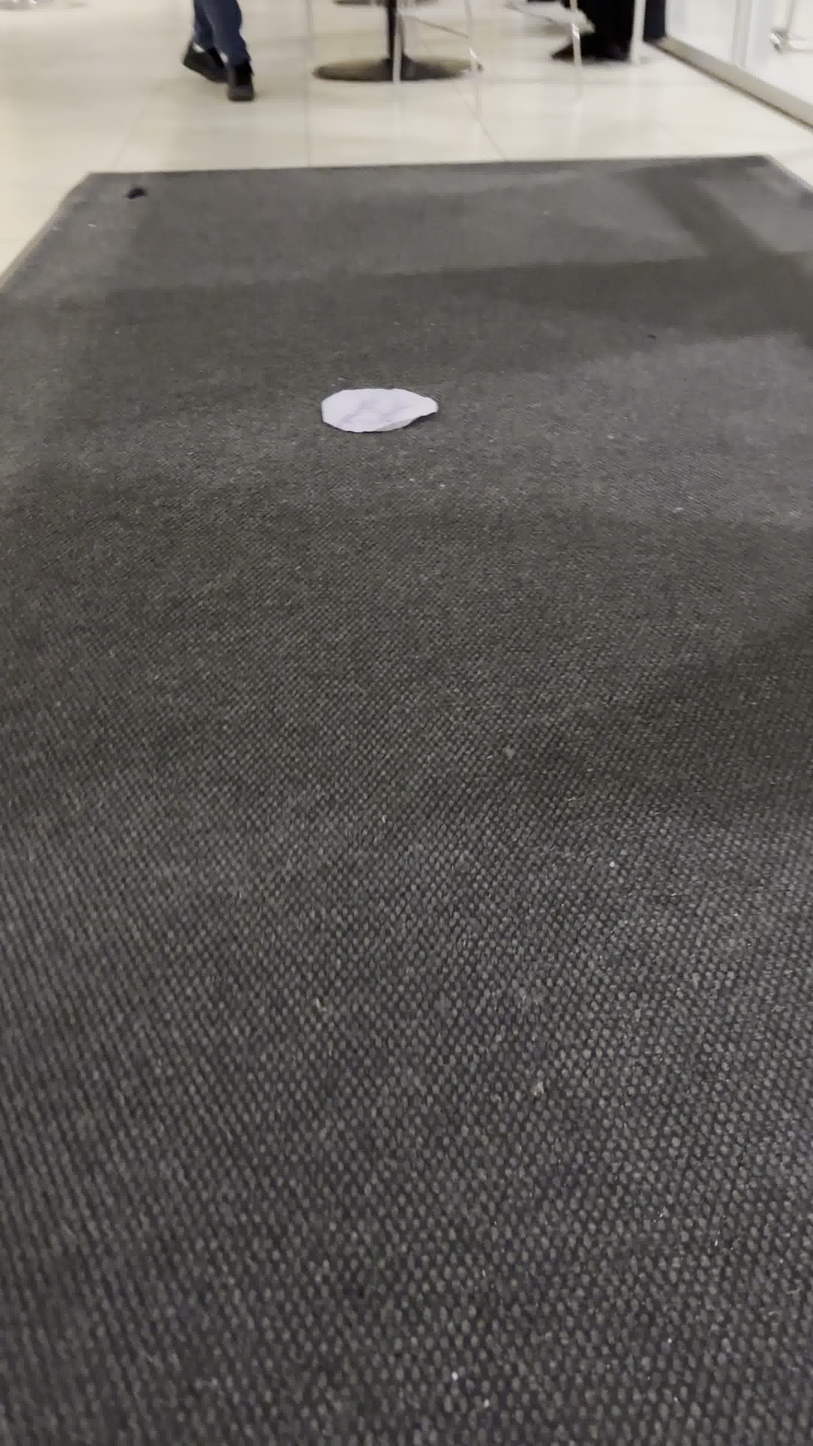Target: (318, 388, 443, 436)
